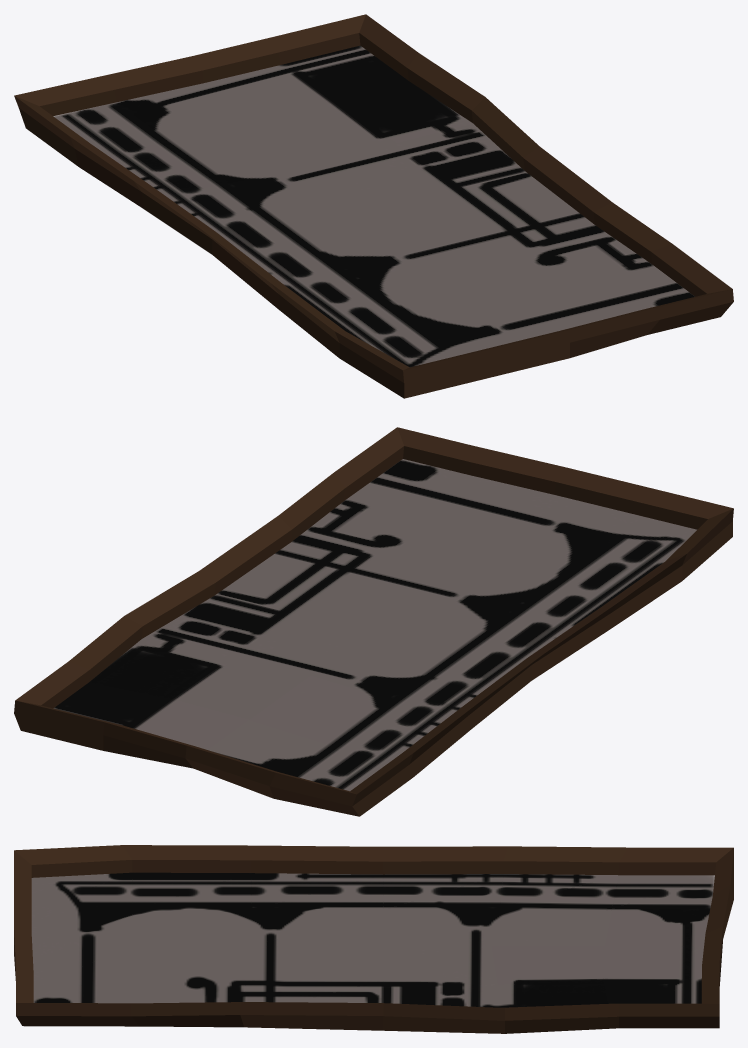
Rendered from EckFrame4.fbx.
The picture shows the model from 3 angles, top to bottom: view 1: azimuth 30°, elevation 25°; view 2: azimuth 150°, elevation 25°; view 3: azimuth 270°, elevation 25°; orthographic projection. The views are drawn at different scales.
Parts seen in each view (by area): view 1: EckFrame3.001; view 2: EckFrame3.001; view 3: EckFrame3.001.
Boxes of the visible parts, <box> form: EckFrame3.001: <box>14,14,733,398</box>; EckFrame3.001: <box>14,427,733,816</box>; EckFrame3.001: <box>14,845,733,1033</box>.
Size of the model in its own units: 239 by 20.26 by 445.
